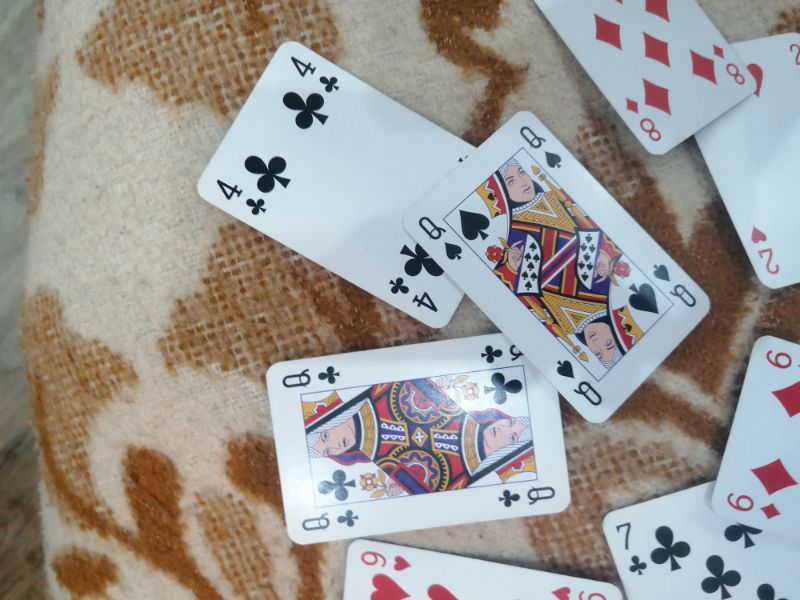2h: (743, 219, 791, 282)
4c: (283, 47, 344, 98), (384, 271, 445, 321), (209, 174, 275, 219)
6d: (720, 481, 787, 526)
7c: (612, 517, 652, 581)
8d: (621, 91, 669, 147), (707, 40, 751, 90)
9h: (354, 545, 417, 576)
Qc: (275, 362, 348, 393), (295, 501, 362, 534), (494, 481, 561, 513)
Qs: (551, 355, 611, 414), (414, 209, 471, 268), (646, 256, 703, 311), (516, 121, 569, 175)
